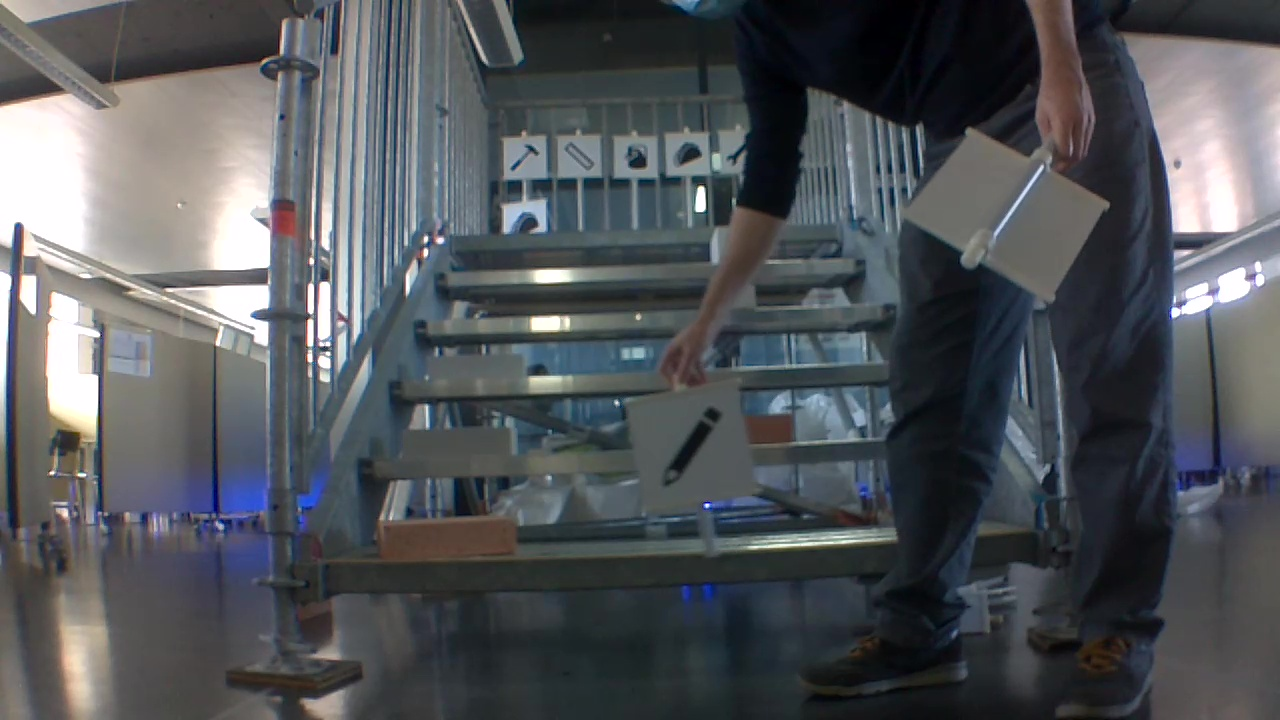brick: (378, 513, 518, 561), (398, 424, 519, 459), (424, 351, 529, 381), (743, 413, 794, 448)
bucket: (626, 143, 650, 168)
edge: (326, 540, 889, 600)
hammer: (510, 142, 538, 173)
pencil: (661, 403, 726, 489)
ruler: (567, 140, 591, 172)
taco: (669, 141, 708, 169), (507, 208, 540, 237)
